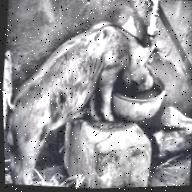boar: (0, 4, 169, 192)
